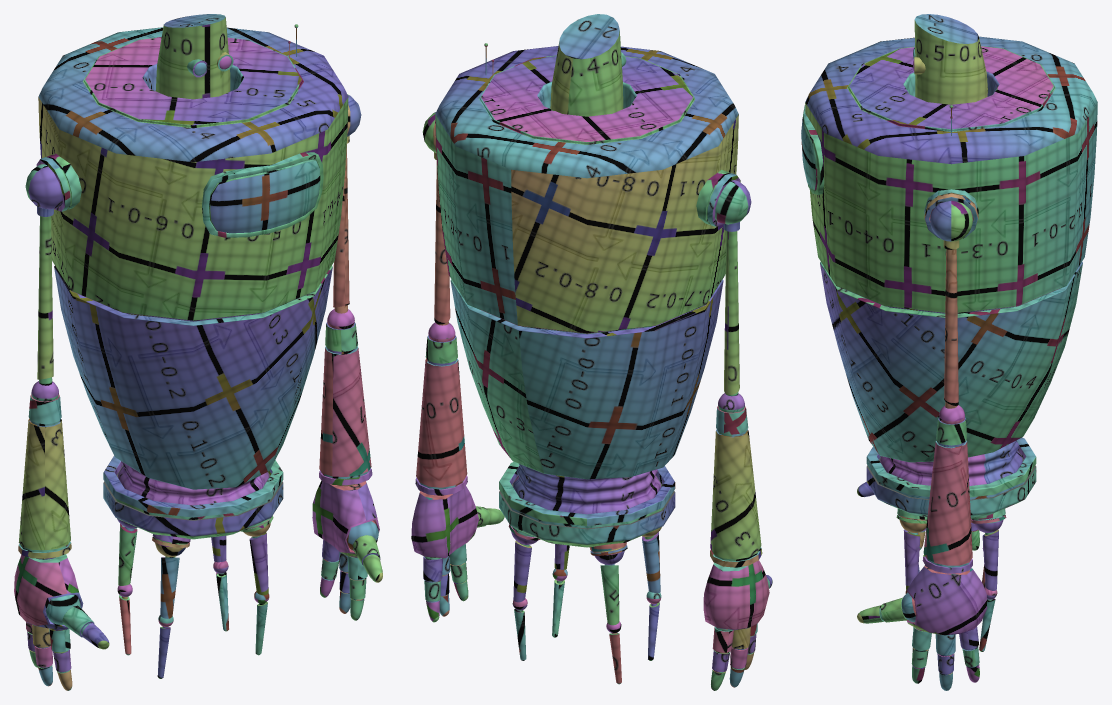
File: Robot UV mapping 2.fbx
3 renders of one model, left to right at view 1: azimuth 30°, elevation 25°; view 2: azimuth 150°, elevation 25°; view 3: azimuth 270°, elevation 25°, orthographic. The views are drawn at different scales.
Visible parts, largest first — view 1: Torso_Geo, L_Shoulder_Geo, Hip_Geo; view 2: Torso_Geo, L_Shoulder_Geo, Hip_Geo; view 3: Torso_Geo, L_Shoulder_Geo, Hip_Geo.
Boxes of the visible parts, box(x1,y1,x2,y2) form: Torso_Geo: box(36, 14, 350, 489); L_Shoulder_Geo: box(14, 94, 382, 690); Hip_Geo: box(103, 456, 283, 678); Torso_Geo: box(433, 14, 740, 479); L_Shoulder_Geo: box(411, 112, 772, 690); Hip_Geo: box(499, 462, 675, 684); Torso_Geo: box(801, 14, 1097, 462); L_Shoulder_Geo: box(857, 200, 987, 690); Hip_Geo: box(866, 437, 1036, 651).
Bounding box in the file's own units: 9.14 × 16.07 × 7.09.
